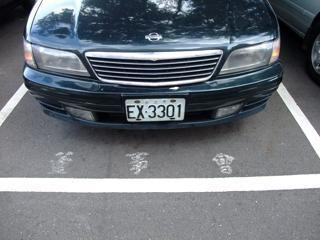plate: (124, 97, 185, 121)
